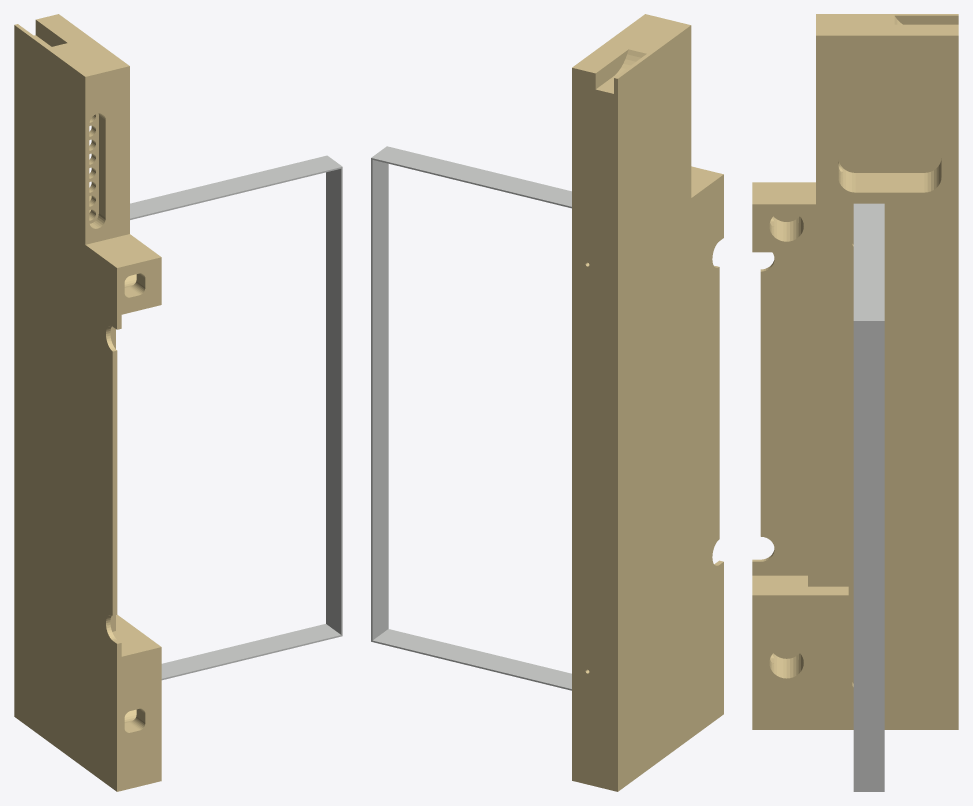
The picture shows the model from 3 angles, left to right: view 1: azimuth 30°, elevation 25°; view 2: azimuth 150°, elevation 25°; view 3: azimuth 270°, elevation 25°; orthographic projection. The views are drawn at different scales.
Visible parts, largest first — view 1: m0, m1; view 2: m0, m1; view 3: m0, m1.
Part boxes in pixels (x1=…): m0: x1=14, y1=14, x2=161, y2=791; m1: x1=130, y1=155, x2=342, y2=680; m0: x1=572, y1=14, x2=723, y2=791; m1: x1=371, y1=146, x2=571, y2=690; m0: x1=752, y1=14, x2=958, y2=729; m1: x1=853, y1=203, x2=884, y2=791.
Size of the model in its own units: 0.186 by 0.445 by 0.12.
